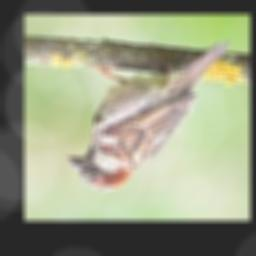Sparrow: (66, 41, 230, 191)
